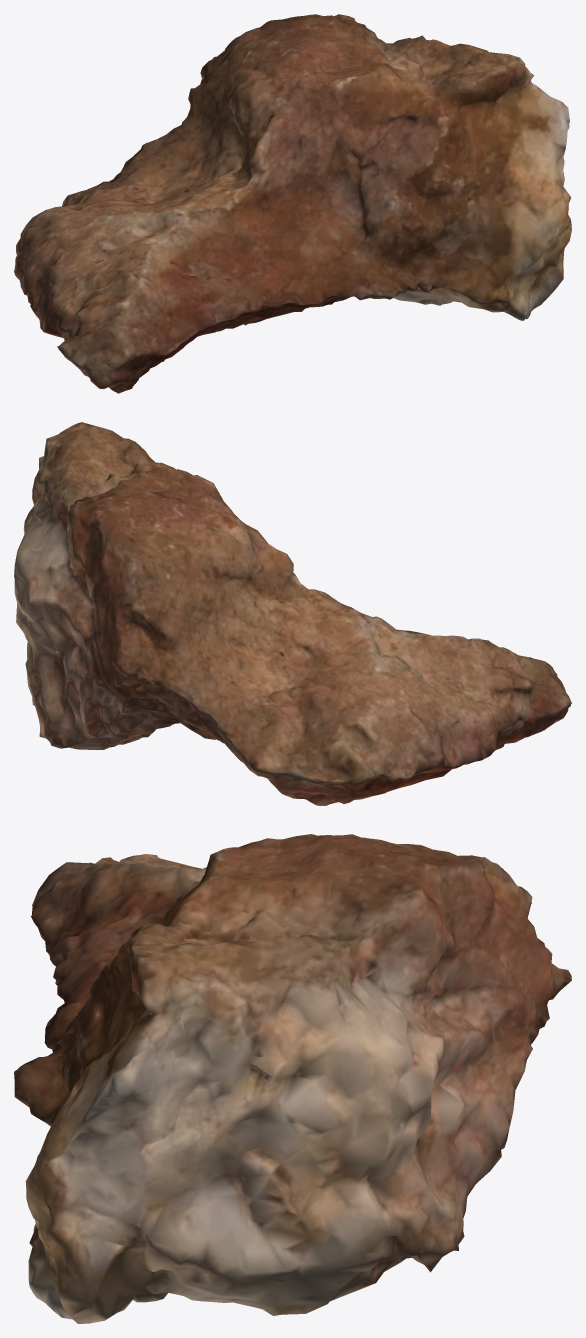
File: stone_01.glb
The picture shows the model from 3 angles, top to bottom: view 1: azimuth 30°, elevation 25°; view 2: azimuth 150°, elevation 25°; view 3: azimuth 270°, elevation 25°; orthographic projection. The views are drawn at different scales.
Visible parts, largest first — view 1: stone_01; view 2: stone_01; view 3: stone_01.
Boxes of the visible parts, <box> form: stone_01: <box>14,14,571,393</box>; stone_01: <box>14,422,571,805</box>; stone_01: <box>14,834,571,1323</box>.
Bounding box in the file's own units: 0.1469 × 0.0718 × 0.089.
Materials: 1 (1 with a texture image).
